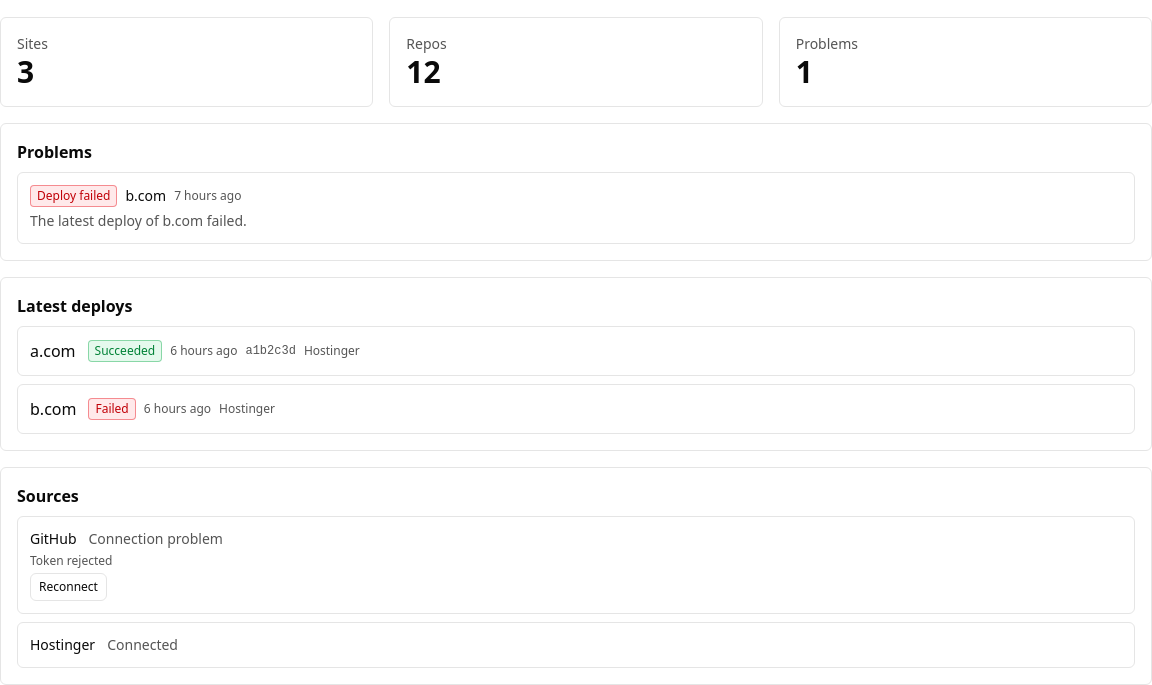
Scenario: OverviewPage › the GitHub source row offers Reconnect when its token needs replacing
Step 1. Click the button "Reconnect" → (68, 587), box [30, 573, 107, 601]
(page scrolled)
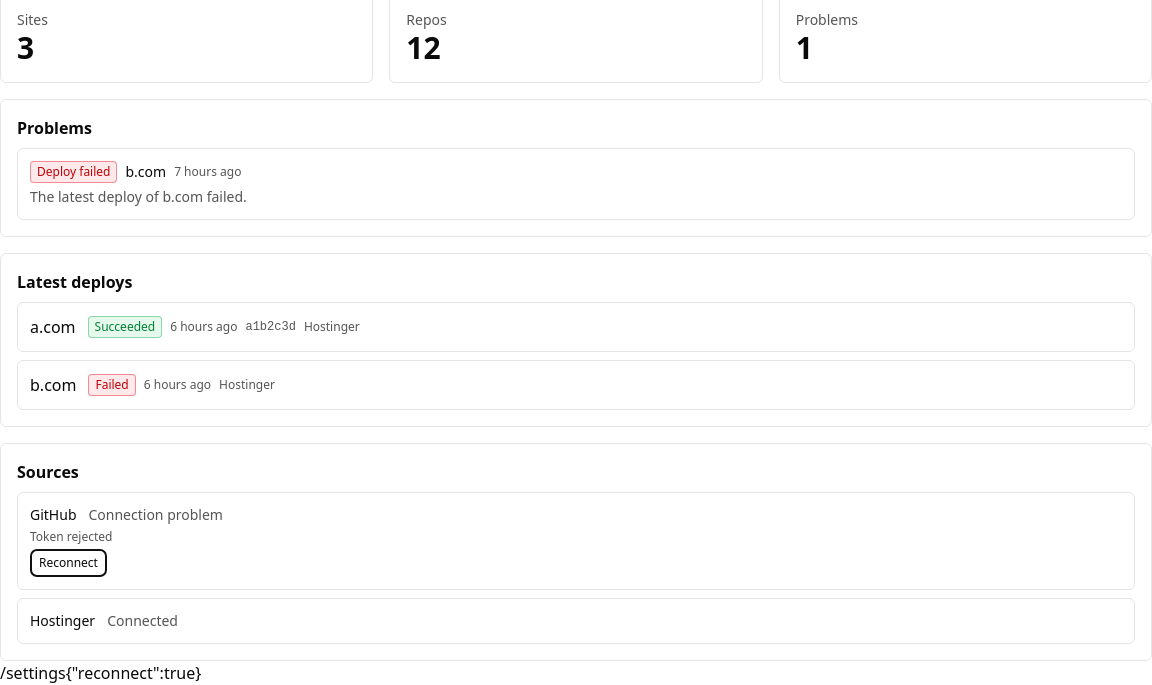
expect the text with test id "where" reads "/settings{\"reconnect\":true}": met, box [0, 662, 201, 684]
